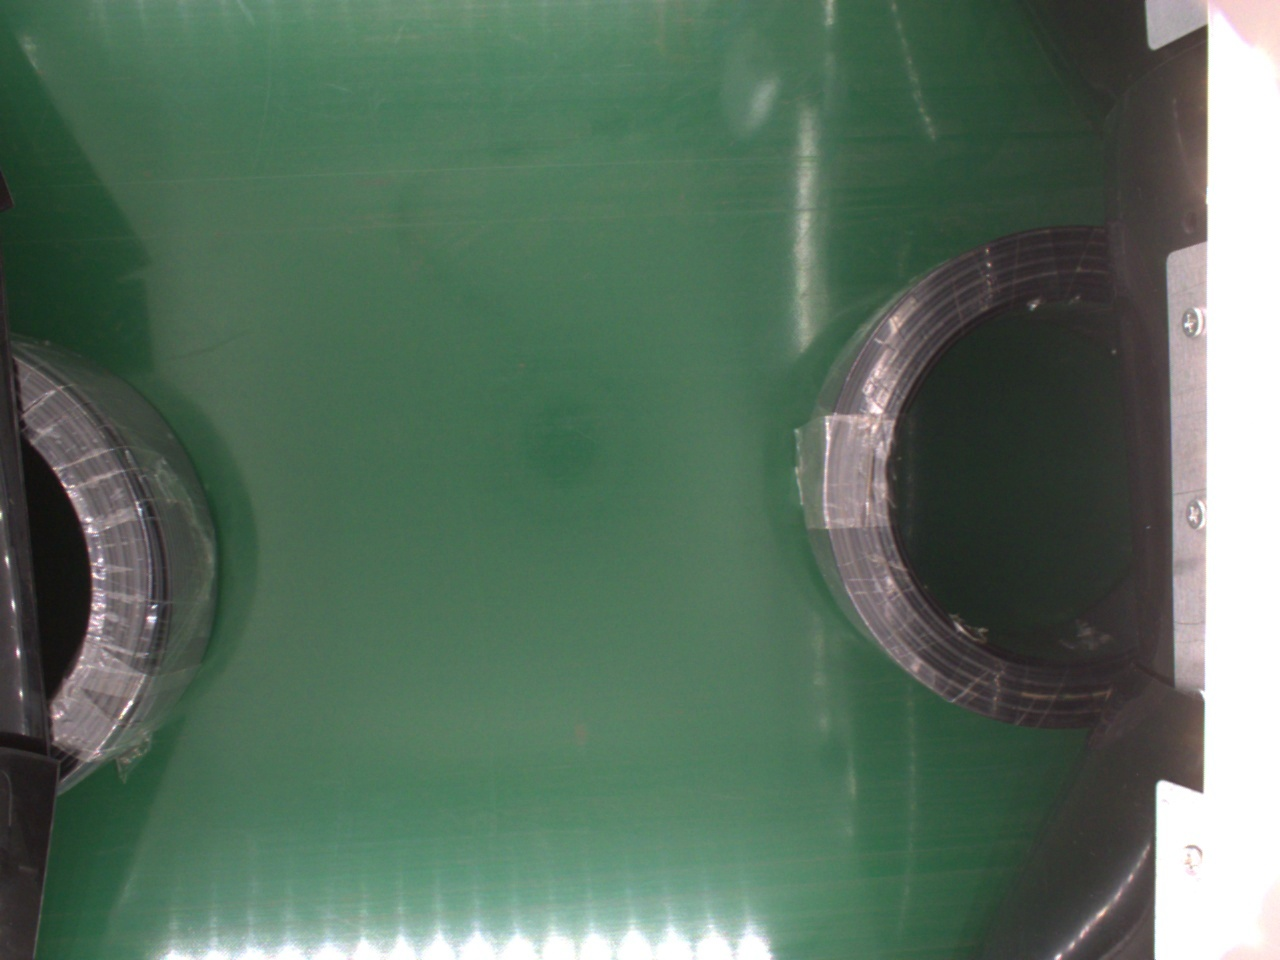black: (801, 224, 1144, 725), (4, 342, 220, 789)
